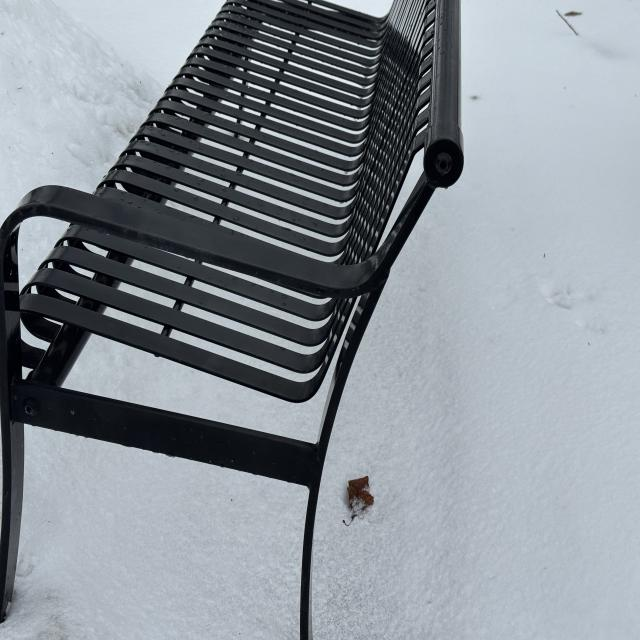Bench: (3, 0, 463, 640)
